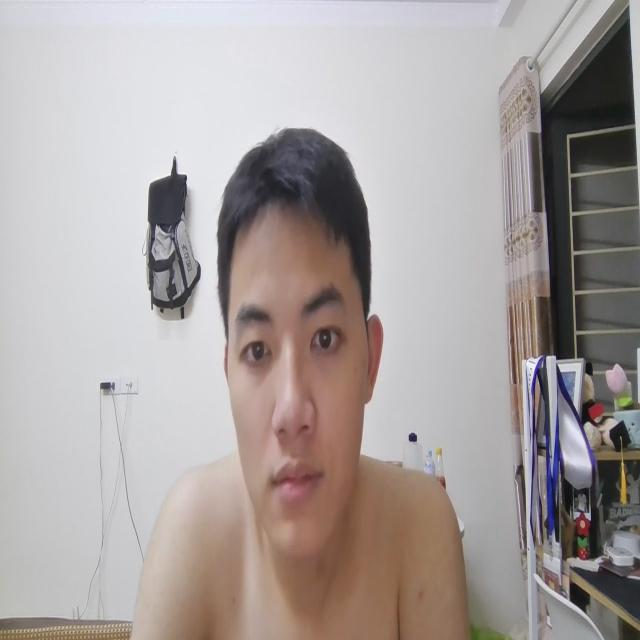student: (136, 120, 468, 640)
